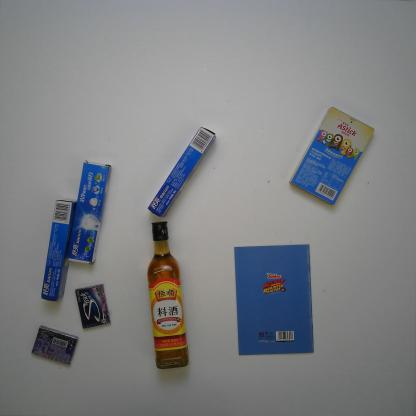Dessert: (287, 104, 377, 209)
Gum: (30, 324, 79, 366), (74, 282, 112, 329)
Personal Hygiene: (144, 125, 218, 218), (66, 160, 111, 267), (39, 197, 80, 302)
Seasoner: (146, 221, 189, 370)
Stationery: (232, 242, 316, 357)
